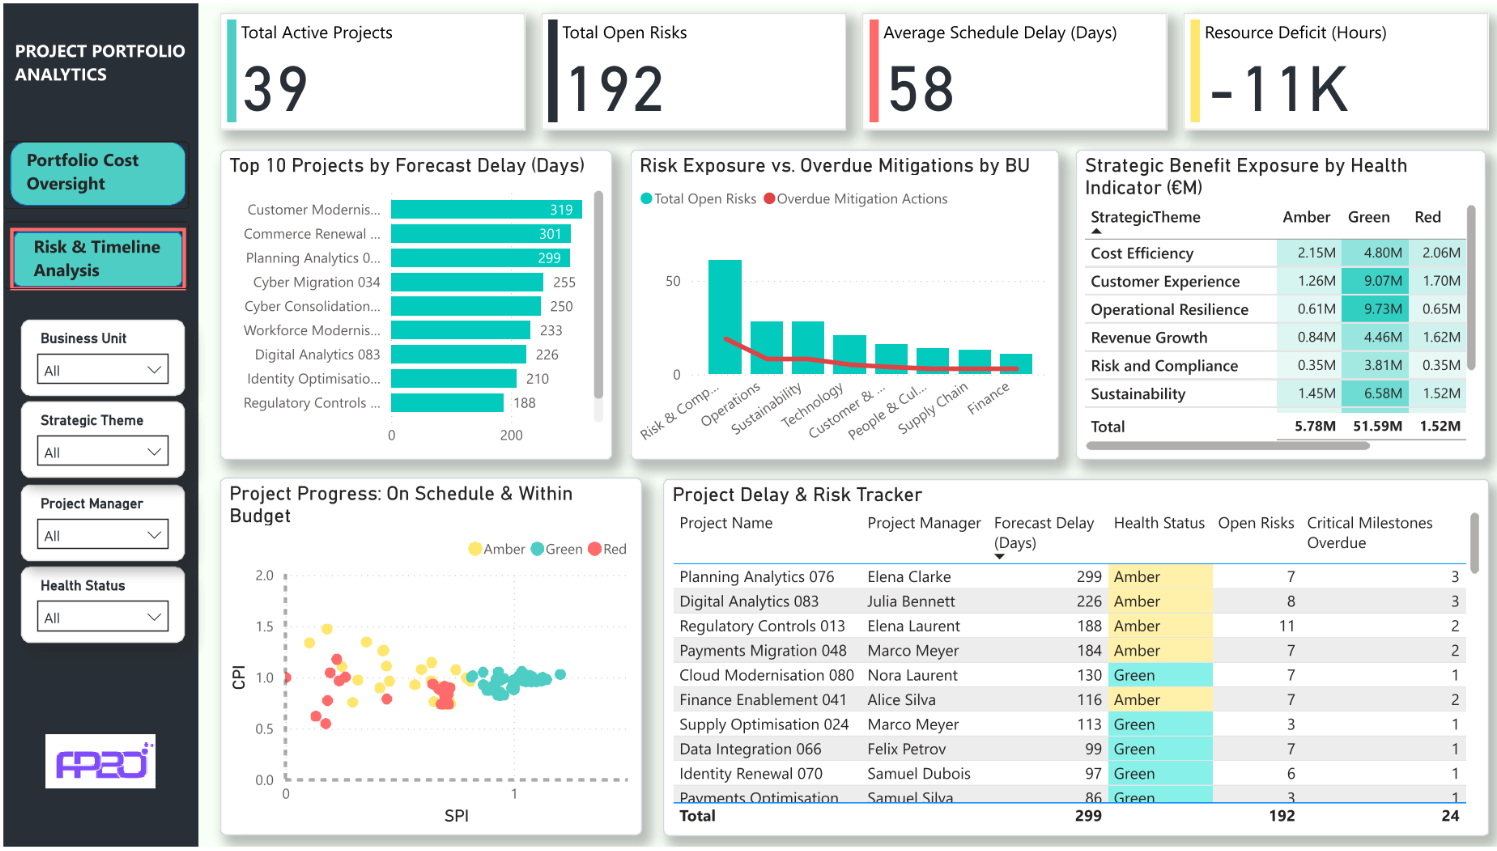

Layout of this report page (visuals, bound fields, positions):
{"tool":"powerbi","page":{"name":"Page 2","canvas":[1280,720],"ordinal":1},"visuals":[{"type":"shape","box":[0,0,166.9,720.2],"z":0},{"type":"slicer","fields":{"Values":["DimBusinessUnitTable.BusinessUnitName"]},"box":[15,270,140,65],"z":0,"group":"g1"},{"type":"cardVisual","fields":{"Data":["DAX_Measure.Total Active Projects"]},"box":[185,8,260,100],"z":1000},{"type":"slicer","fields":{"Values":["FactProjectMonthlyTable.RAGStatus"]},"box":[14.9,481,140,65],"z":1000,"group":"g1"},{"type":"cardVisual","fields":{"Data":["DAX_Measure.Total Open Risks"]},"box":[459,8,260,100],"z":2000},{"type":"slicer","fields":{"Values":["DimEmployeeTable.EmployeeName"]},"box":[15,410.7,140,65],"z":2000,"group":"g1"},{"type":"cardVisual","fields":{"Data":["DAX_Measure.Average Schedule Delay"]},"box":[733,8,260,100],"z":3000},{"type":"slicer","fields":{"Values":["DimStrategicThemeTable.StrategicTheme"]},"box":[14.9,340.3,140,65],"z":3000,"group":"g1"},{"type":"cardVisual","fields":{"Data":["DAX_Measure.Resource Capacity Deficit"]},"box":[1007,8,260,100],"z":4000},{"type":"clusteredBarChart","title":"Top 10 Projects by Forecast Delay (Days)","fields":{"Category":["DimProjectTable.ProjectName"],"Y":["DAX_Measure.Project Forecast Delay Days"]},"box":[185,125,335,265],"z":5000},{"type":"lineClusteredColumnComboChart","title":"Risk Exposure vs. Overdue Mitigations by BU","fields":{"Category":["DimBusinessUnitTable.BusinessUnitName"],"Y":["DAX_Measure.Total Open Risks"],"Y2":["DAX_Measure.Overdue Mitigation Actions"]},"box":[535,125,365.7,265],"z":6000},{"type":"pivotTable","title":"Strategic Benefit Exposure by Health Indicator (€M)","fields":{"Columns":["FactProjectMonthlyTable.RAGStatus"],"Rows":["DimStrategicThemeTable.StrategicTheme"],"Values":["DAX_Measure.Total Expected Value"]},"box":[915,125,350,265],"z":7000},{"type":"scatterChart","title":"Project Progress: On Schedule & Within Budget","fields":{"Category":["FactProjectMonthlyTable.BaselineBudgetEUR"],"Series":["FactProjectMonthlyTable.RAGStatus"],"X":["DAX_Measure.SPI"],"Y":["DAX_Measure.CPI"]},"box":[185,405,360,305],"z":8000},{"type":"tableEx","title":"Project Delay & Risk Tracker","fields":{"Values":["DimProjectTable.ProjectName","DimEmployeeTable.EmployeeName","DAX_Measure.Project Forecast Delay Days","FactProjectMonthlyTable.RAGStatus","DAX_Measure.Total Open Risks","DAX_Measure.Overdue Critical Milestones"]},"box":[563.2,406.1,705,305],"z":9000},{"type":"image","box":[30.7,595.1,104.3,104.3],"z":10000},{"type":"textbox","box":[4.9,24.5,162,65],"z":11000},{"type":"group","id":"g1","title":"Group 1","box":[14.9,270,140.1,276],"z":12000},{"type":"shape","box":[5.6,118.3,150.3,54.3],"z":13000},{"type":"shape","box":[5.6,192,150.3,52.9],"z":14000},{"type":"textbox","box":[15.3,118.3,136.3,57],"z":15000},{"type":"textbox","box":[20.9,192,140.5,52.9],"z":16000},{"type":"pageNavigator","box":[0,118.3,158.6,126.6],"z":16501}]}

Visuals, with their boxes in screenshot pixels (x1, y1, x2, y2), scaled from the page's 1280x720 canvas onto the 1497x851 screenshot:
shape: x1=0 y1=0 x2=195 y2=850
slicer - DimBusinessUnitTable.BusinessUnitName: x1=18 y1=319 x2=181 y2=396
cardVisual - DAX_Measure.Total Active Projects: x1=216 y1=9 x2=520 y2=128
slicer - FactProjectMonthlyTable.RAGStatus: x1=17 y1=569 x2=181 y2=645
cardVisual - DAX_Measure.Total Open Risks: x1=537 y1=9 x2=841 y2=128
slicer - DimEmployeeTable.EmployeeName: x1=18 y1=485 x2=181 y2=562
cardVisual - DAX_Measure.Average Schedule Delay: x1=857 y1=9 x2=1161 y2=128
slicer - DimStrategicThemeTable.StrategicTheme: x1=17 y1=402 x2=181 y2=479
cardVisual - DAX_Measure.Resource Capacity Deficit: x1=1178 y1=9 x2=1482 y2=128
"Top 10 Projects by Forecast Delay (Days)" clusteredBarChart: x1=216 y1=148 x2=608 y2=461
"Risk Exposure vs. Overdue Mitigations by BU" lineClusteredColumnComboChart: x1=626 y1=148 x2=1053 y2=461
"Strategic Benefit Exposure by Health Indicator (€M)" pivotTable: x1=1070 y1=148 x2=1479 y2=461
"Project Progress: On Schedule & Within Budget" scatterChart: x1=216 y1=479 x2=637 y2=839
"Project Delay & Risk Tracker" tableEx: x1=659 y1=480 x2=1483 y2=840
image: x1=36 y1=703 x2=158 y2=827
textbox: x1=6 y1=29 x2=195 y2=106
"Group 1" group: x1=17 y1=319 x2=181 y2=645
shape: x1=7 y1=140 x2=182 y2=204
shape: x1=7 y1=227 x2=182 y2=289
textbox: x1=18 y1=140 x2=177 y2=207
textbox: x1=24 y1=227 x2=189 y2=289
pageNavigator: x1=0 y1=140 x2=185 y2=289
